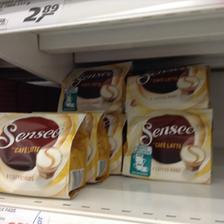Kaffee: (0, 110, 88, 198), (124, 108, 212, 184), (124, 61, 210, 109), (56, 60, 128, 108)
